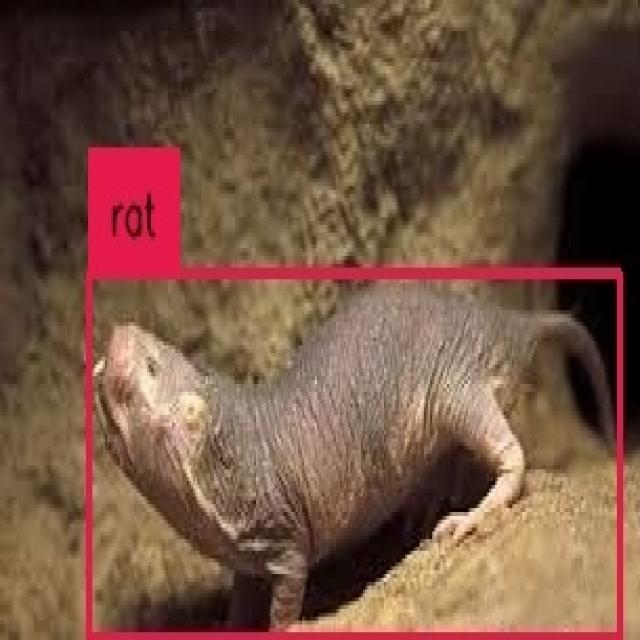rat: (90, 274, 621, 638)
